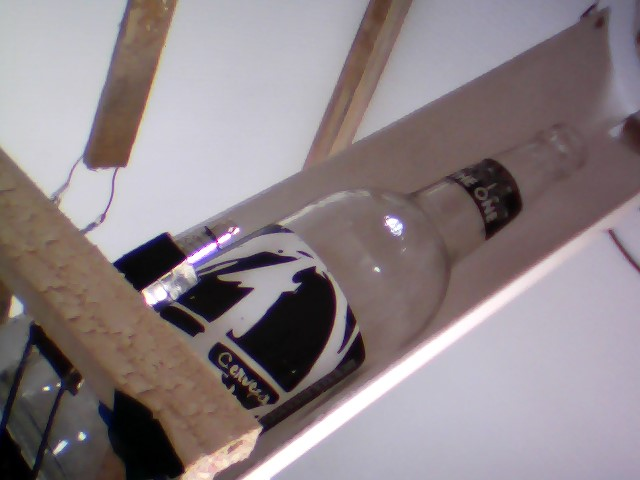vidrio: (201, 110, 598, 449)
